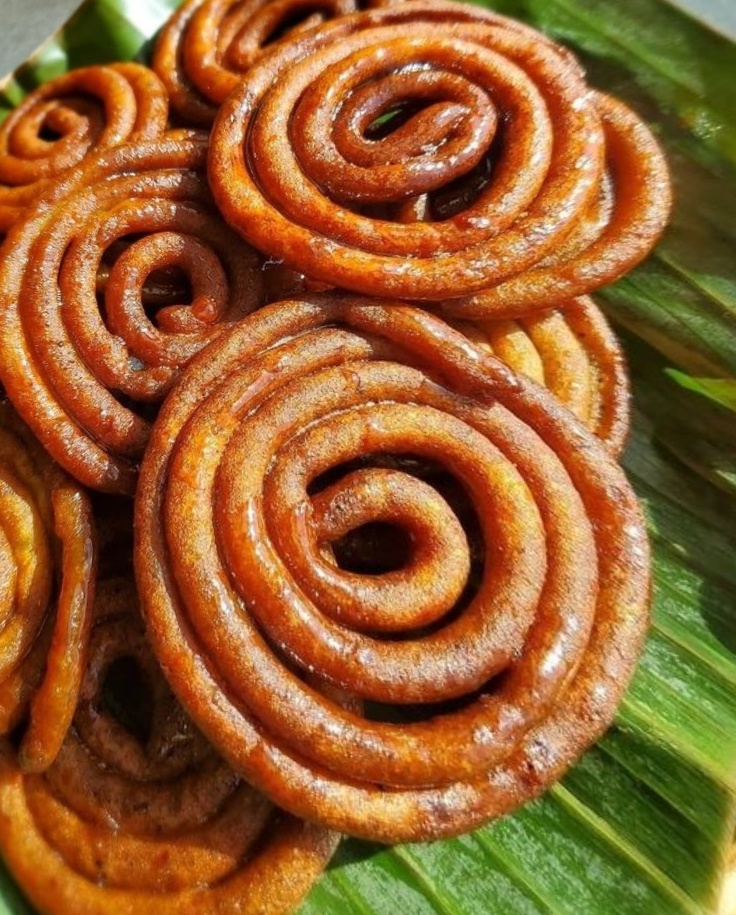pani_walalu: (118, 271, 692, 901), (207, 0, 631, 299), (0, 113, 294, 487), (0, 414, 104, 789), (149, 0, 450, 123), (0, 47, 149, 230)
